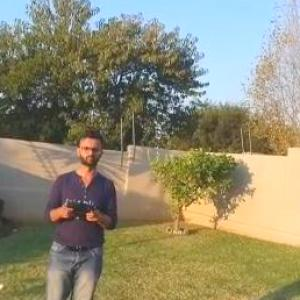follow: (38, 122, 125, 299)
